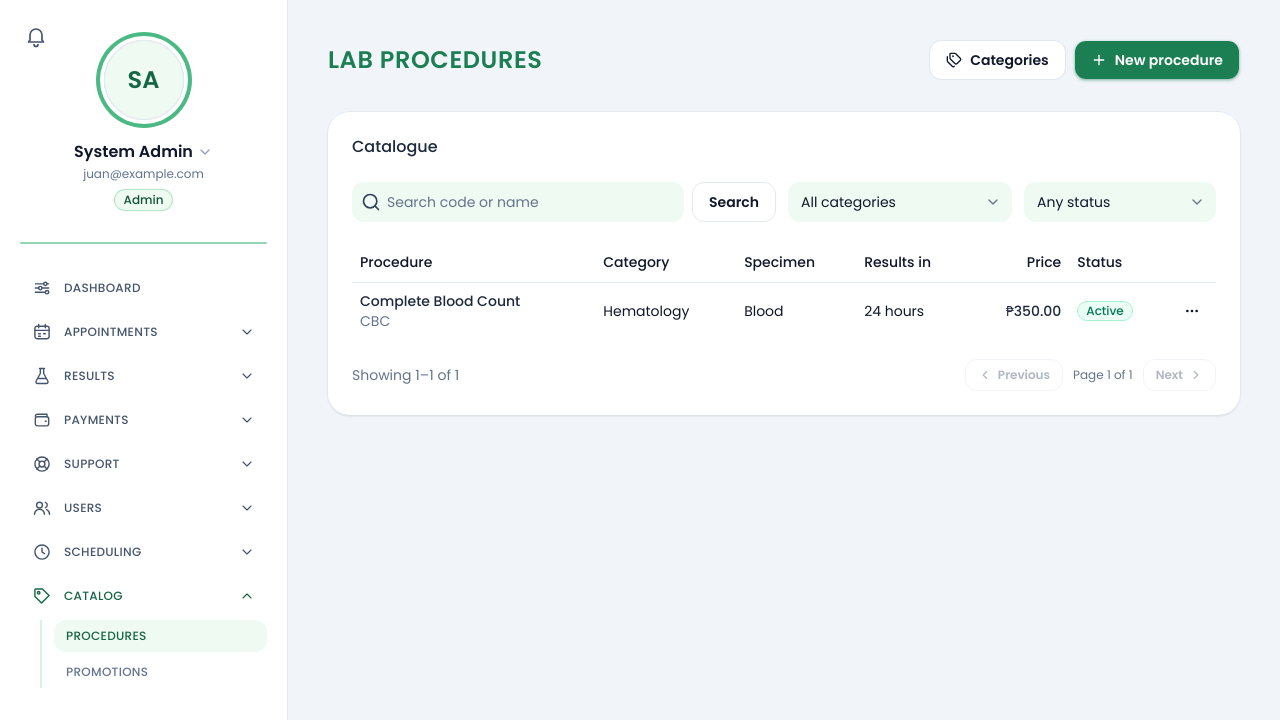
Test: ProceduresPage › explains why a category in use can't be deleted
This screenshot has width=1280, height=720.
Click the button "Categories": click(998, 60) top-left (929, 40), bottom-right (1066, 80)
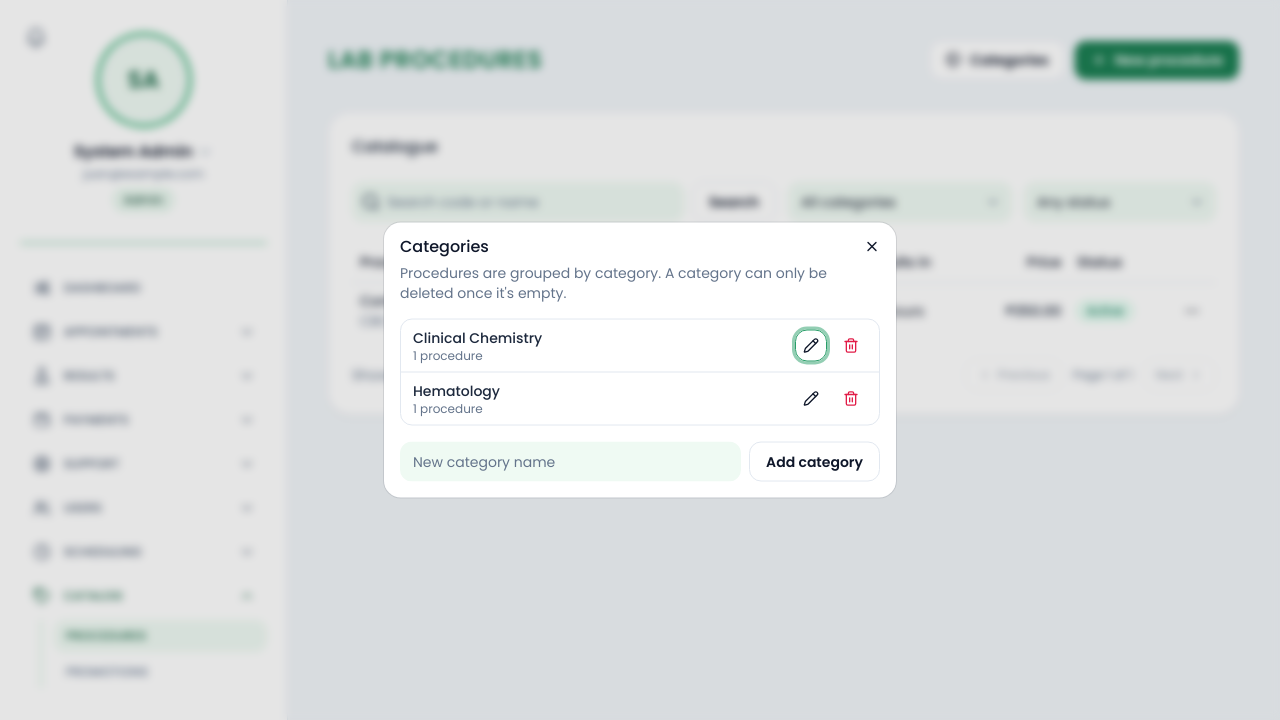
Click the button named "Delete Hematology": click(851, 398) top-left (835, 382), bottom-right (867, 414)
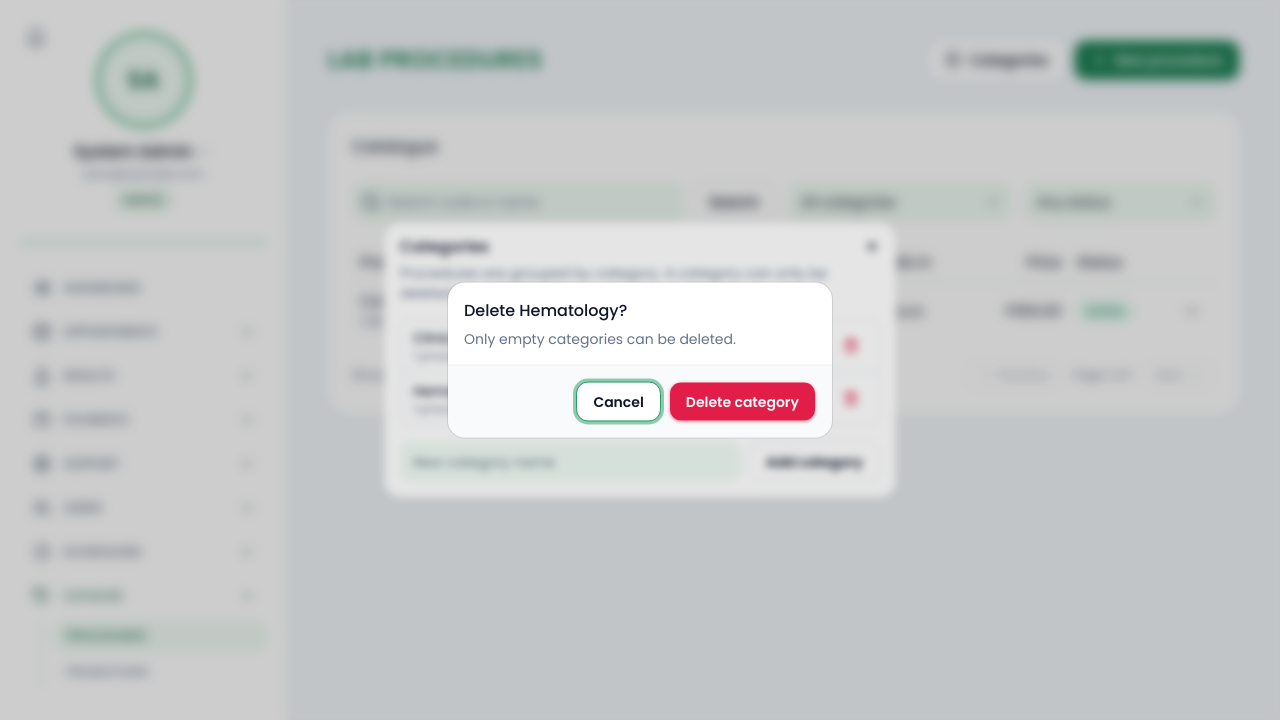
Click the button "Delete category": click(742, 402) top-left (669, 382), bottom-right (816, 422)
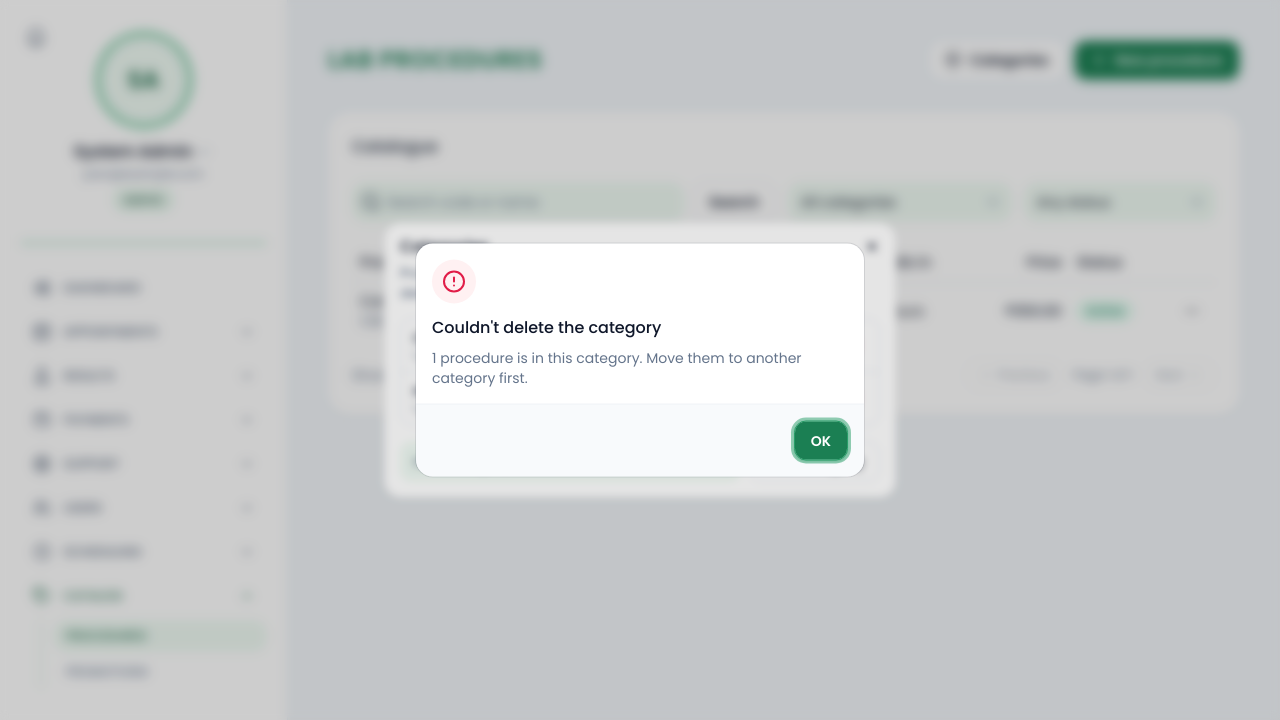
Now the text "1 procedure is in this category" is shown, box top-left (432, 348), bottom-right (802, 388)
